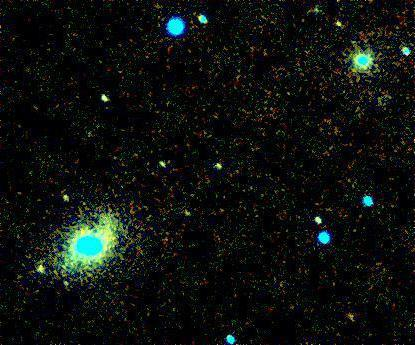star: (322, 8, 352, 38)
